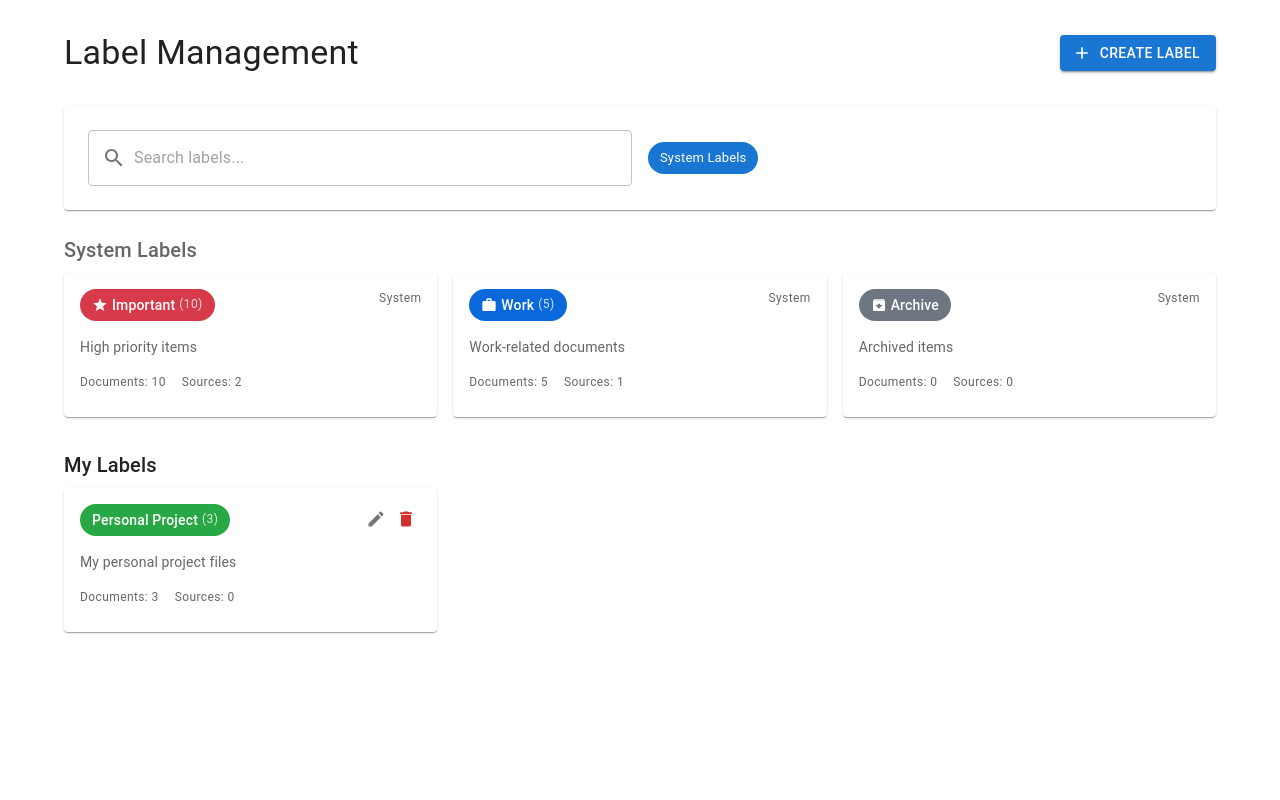
LabelsPage Component › Search and Filtering › should toggle system labels filter
The width and height of the screenshot is (1280, 800).
Expected: the text "Important" is shown, top-left (112, 295), bottom-right (175, 315)
Expected: the text "Personal Project" is shown, top-left (92, 510), bottom-right (198, 530)
Click the button "System Labels": (703, 158) top-left (648, 142), bottom-right (758, 174)
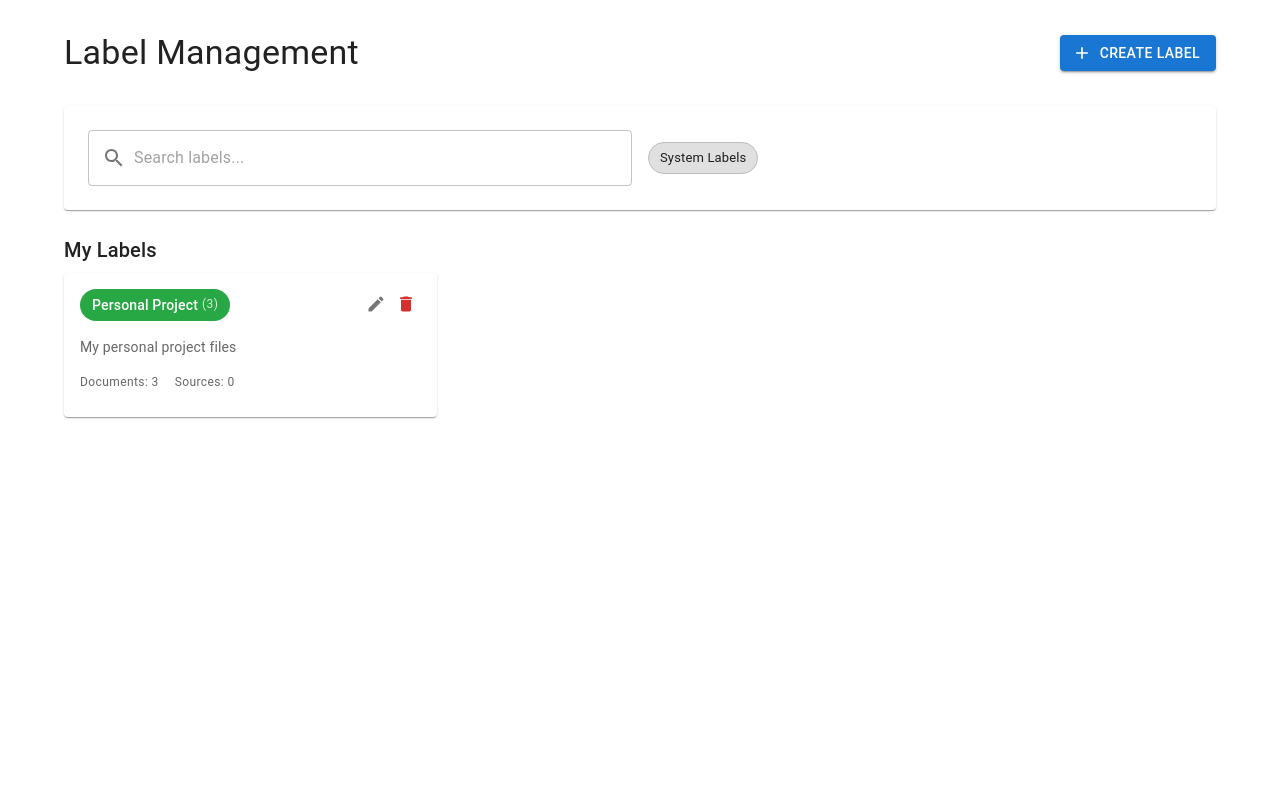
Expected: the text "Personal Project" is shown, top-left (92, 295), bottom-right (198, 315)
Expected: the text "Important" is gone
